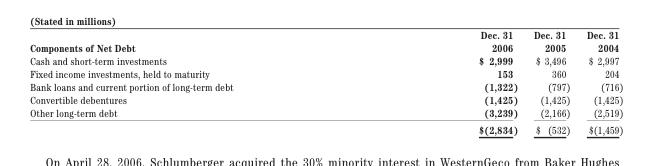table: (29, 28, 622, 135)
table column: (29, 28, 355, 135), (355, 28, 524, 135), (524, 28, 577, 135), (577, 28, 622, 135)
table column header: (29, 28, 622, 54)
table row: (29, 28, 622, 54), (29, 105, 622, 120), (29, 120, 622, 135), (29, 66, 622, 79), (29, 79, 622, 92), (29, 92, 622, 105), (29, 54, 622, 66)
